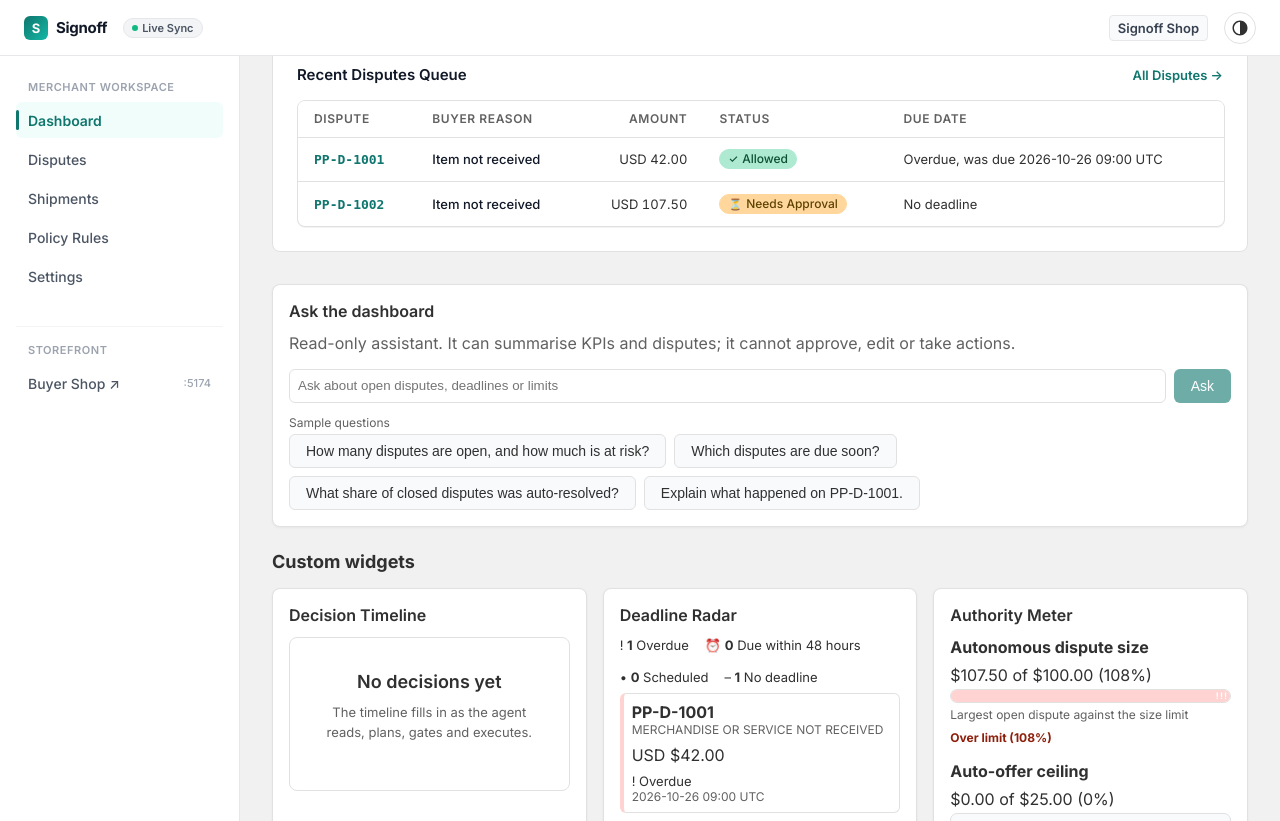
it: Dashboard and read-only assistant (Step 28) › answers a sample question through the proxy
(page scrolled)
Expected: the table with test id "dashboard-disputes-table" is shown, [298,101,1224,226]
Expected: the text with test id "assistant-readonly-label" shows "cannot approve", [289,332,1015,352]
Click the button with test id "assistant-sample-0": point(478, 450) [289,434,666,468]
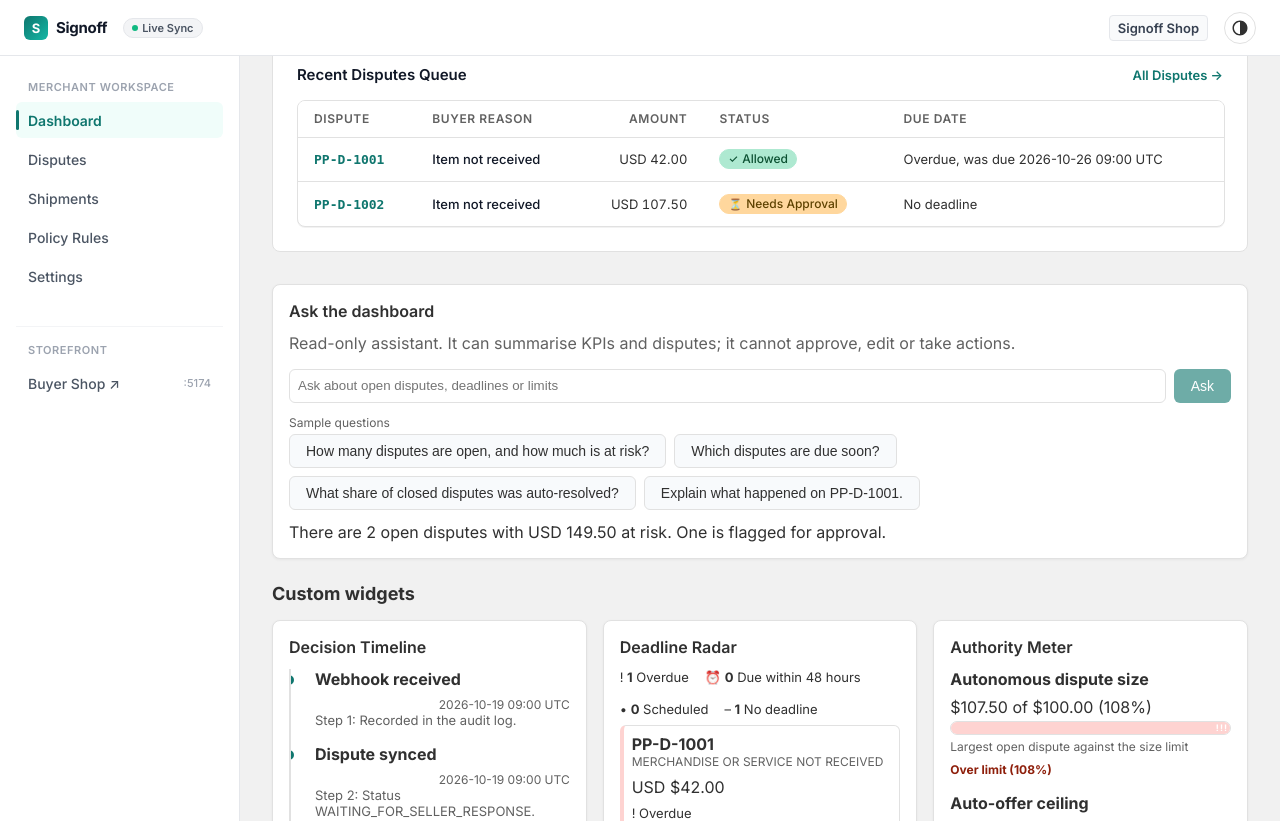
Expected: the text with test id "assistant-answer" shows "2 open disputes", [289,522,886,542]
Expected: the text with test id "assistant-answer" shows "USD 149.50 at risk", [289,522,886,542]
